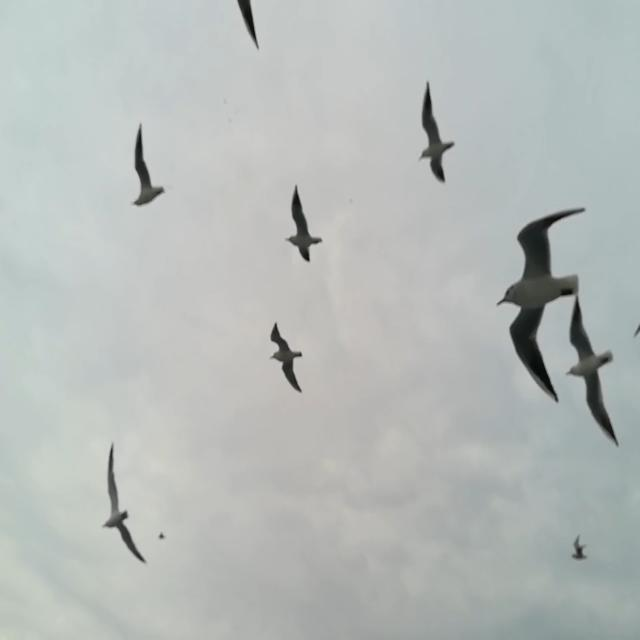bird: (494, 208, 584, 404), (566, 293, 618, 448), (102, 442, 149, 568), (418, 81, 456, 184), (129, 122, 168, 208), (284, 185, 324, 262), (269, 320, 304, 394), (234, 0, 261, 51), (569, 530, 589, 566), (632, 320, 640, 340), (156, 530, 167, 543)
